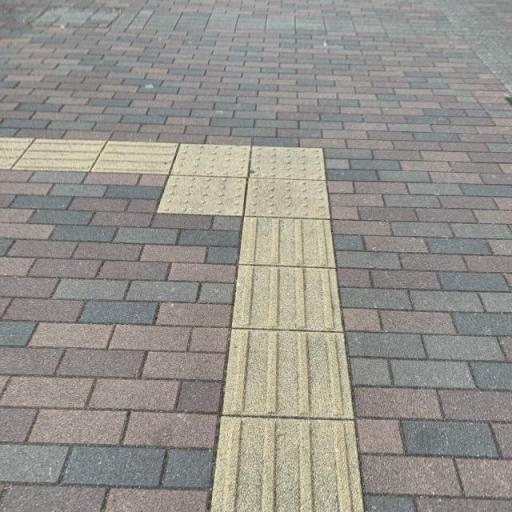dot: (244, 176, 330, 219), (157, 174, 247, 215), (170, 143, 251, 178), (248, 146, 327, 180)
line: (211, 418, 366, 511), (220, 329, 358, 420), (229, 265, 341, 331), (238, 217, 337, 269), (10, 136, 106, 171), (89, 142, 179, 175)
